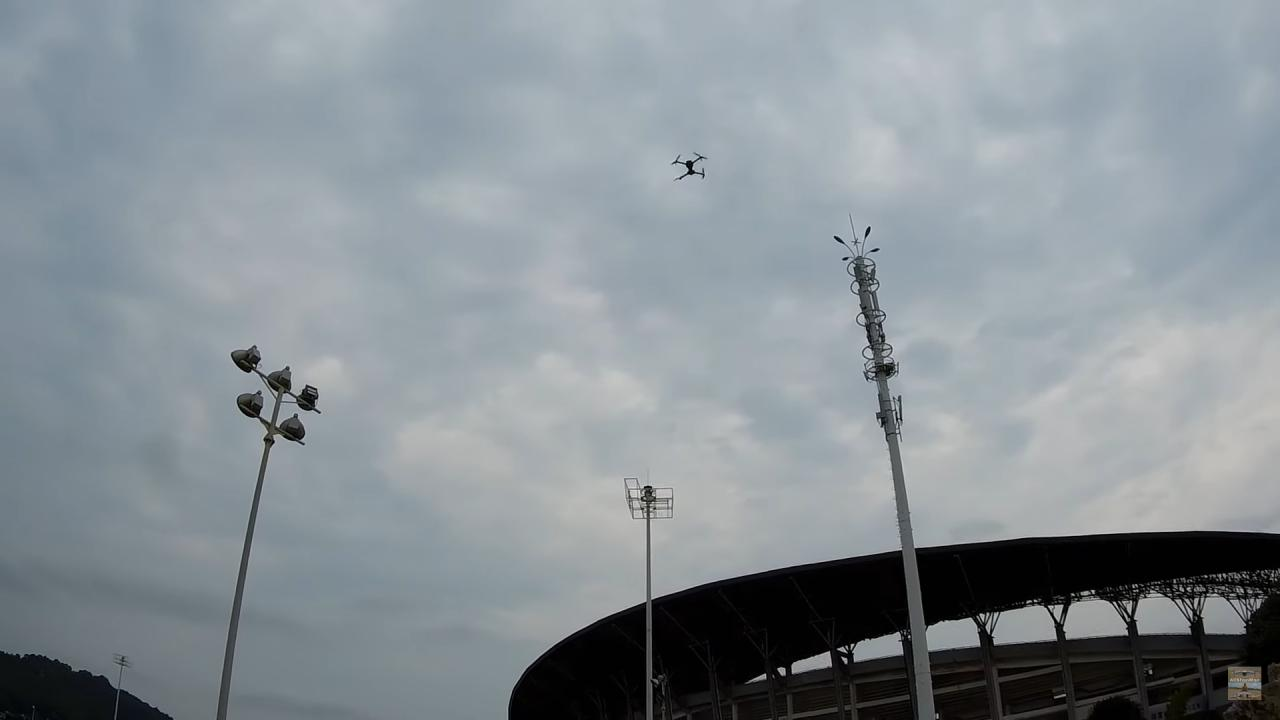Drone: (663, 148, 720, 192)
